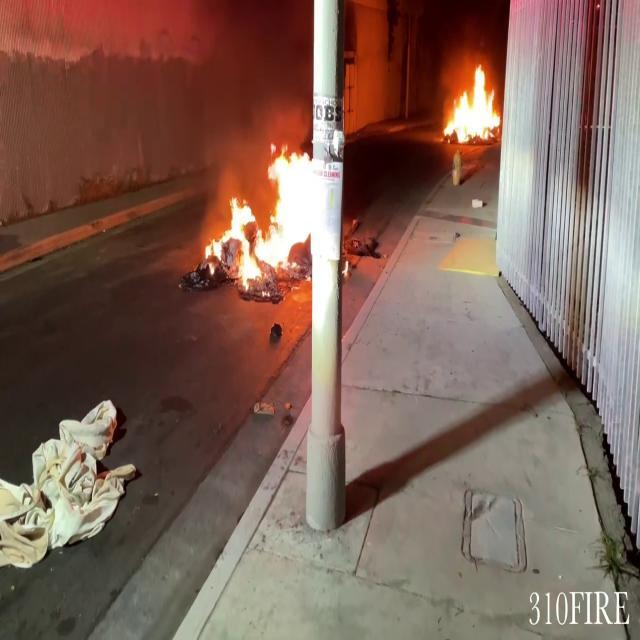Fire: (202, 139, 338, 293), (442, 59, 500, 150)
